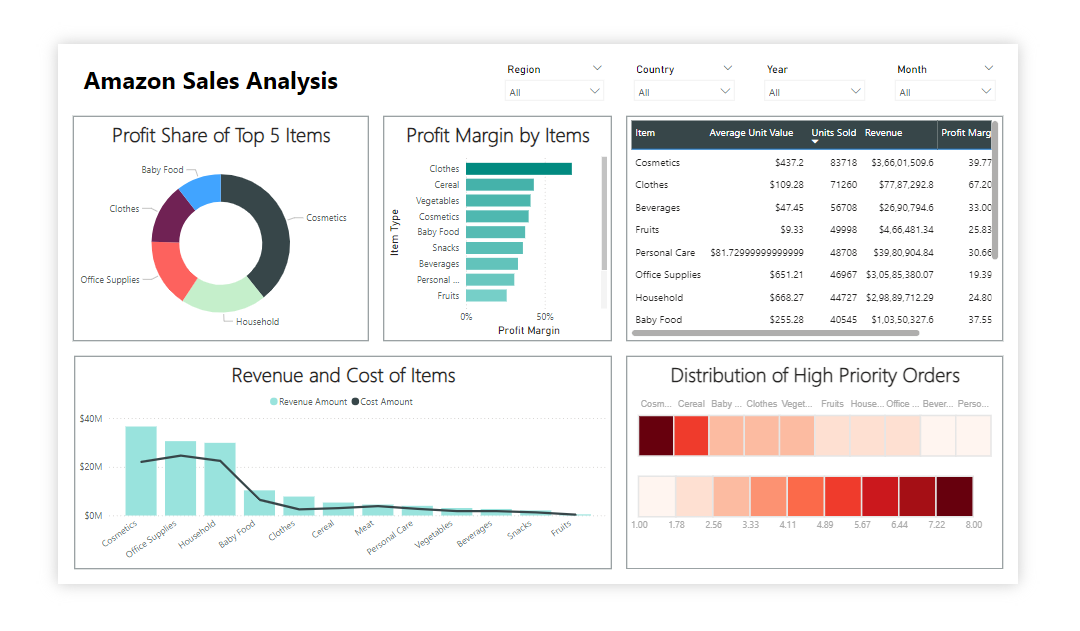

What the dashboard file says about the page in this screenshot:
{"tool":"powerbi","page":{"name":"Products Analysis","canvas":[1280,720],"ordinal":2},"visuals":[{"type":"lineStackedColumnComboChart","title":"Revenue and Cost of Items","fields":{"Category":["Sales Data.Item Type"],"Y":["Key Measures.Revenue Amount"],"Y2":["Key Measures.Cost Amount"]},"box":[22,416,716,284],"z":0},{"type":"shape","box":[20,20,470,56],"z":1000},{"type":"barChart","title":"Profit Margin by Items","fields":{"Category":["Sales Data.Item Type"],"Y":["Key Measures.Profit Margin"]},"box":[434,96,304,300],"z":1000},{"type":"textbox","box":[20,20,370,56],"z":2000},{"type":"donutChart","title":"Profit Share of Top 5 Items","fields":{"Category":["Sales Data.Item Type"],"Y":["Key Measures.Profit Amount"]},"box":[20,96,394,300],"z":2000},{"type":"slicer","fields":{"Values":["Amazon Sales Dataset - Clean.Region"]},"box":[586,20,152,56],"z":3000},{"type":"tableEx","fields":{"Values":["Sales Data.Item Type","Key Measures.Average Unit Price","Key Measures.Total Units Sold","Key Measures.Revenue Amount","Key Measures.Profit Margin","Key Measures.Profit Amount"]},"box":[758,96,502,300],"z":3000},{"type":"slicer","fields":{"Values":["Amazon Sales Dataset - Clean.Country"]},"box":[758,20,154,56],"z":4000},{"type":"TableHeatMap1443716069308","title":"Distribution of High Priority Orders","fields":{"Category":["Sales Data.Item Type"],"Y":["CountNonNull(Sales Data.Order Priority)"]},"box":[758,416,502,284],"z":4000},{"type":"slicer","fields":{"Values":["Amazon Sales Dataset - Clean.Order Date.Variation.Date Hierarchy.Year"]},"box":[932,20,154,56],"z":5000},{"type":"slicer","fields":{"Values":["Amazon Sales Dataset - Clean.Order Date.Variation.Date Hierarchy.Month"]},"box":[1106,20,154,56],"z":6000},{"type":"shape","box":[452,20,76,56],"z":13000}]}

Visuals, with their boxes on the page's 1280x720 design canvas (x1, y1, x2, y2). These are canvas units, not pixel positions in the 1080x631 screenshot, which may show the page scaled, cropped or inside an application window:
"Revenue and Cost of Items" lineStackedColumnComboChart: select_region(22, 416, 738, 700)
shape: select_region(20, 20, 490, 76)
"Profit Margin by Items" barChart: select_region(434, 96, 738, 396)
textbox: select_region(20, 20, 390, 76)
"Profit Share of Top 5 Items" donutChart: select_region(20, 96, 414, 396)
slicer - Amazon Sales Dataset - Clean.Region: select_region(586, 20, 738, 76)
tableEx - Sales Data.Item Type x Key Measures.Average Unit Price: select_region(758, 96, 1260, 396)
slicer - Amazon Sales Dataset - Clean.Country: select_region(758, 20, 912, 76)
"Distribution of High Priority Orders" TableHeatMap1443716069308: select_region(758, 416, 1260, 700)
slicer - Amazon Sales Dataset - Clean.Order Date.Variation.Date Hierarchy.Year: select_region(932, 20, 1086, 76)
slicer - Amazon Sales Dataset - Clean.Order Date.Variation.Date Hierarchy.Month: select_region(1106, 20, 1260, 76)
shape: select_region(452, 20, 528, 76)
